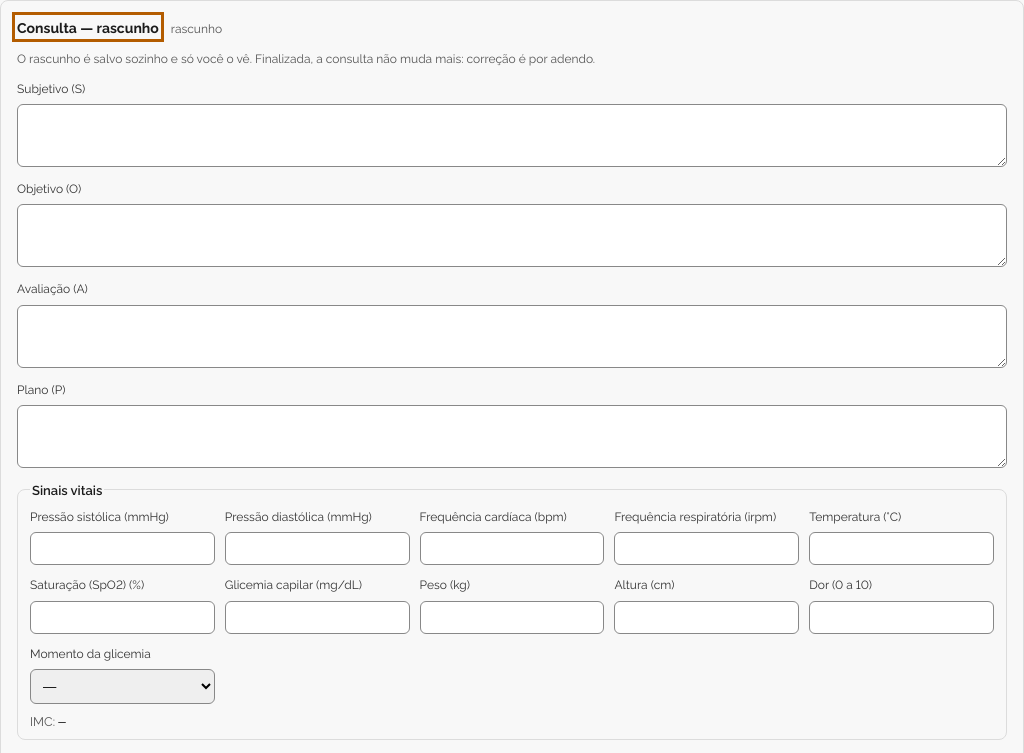
Test: ConsultationEditor › escrever no Subjetivo salva sozinho e mostra a hora
The image size is (1024, 753).
Expected: the message reads "rascunho", [171,19,222,36]
Step 1. Type "Refere sede e cansaço há duas semanas." into the text box labelled "Subjetivo (S)" → (512,136), box [17,104,1007,167]
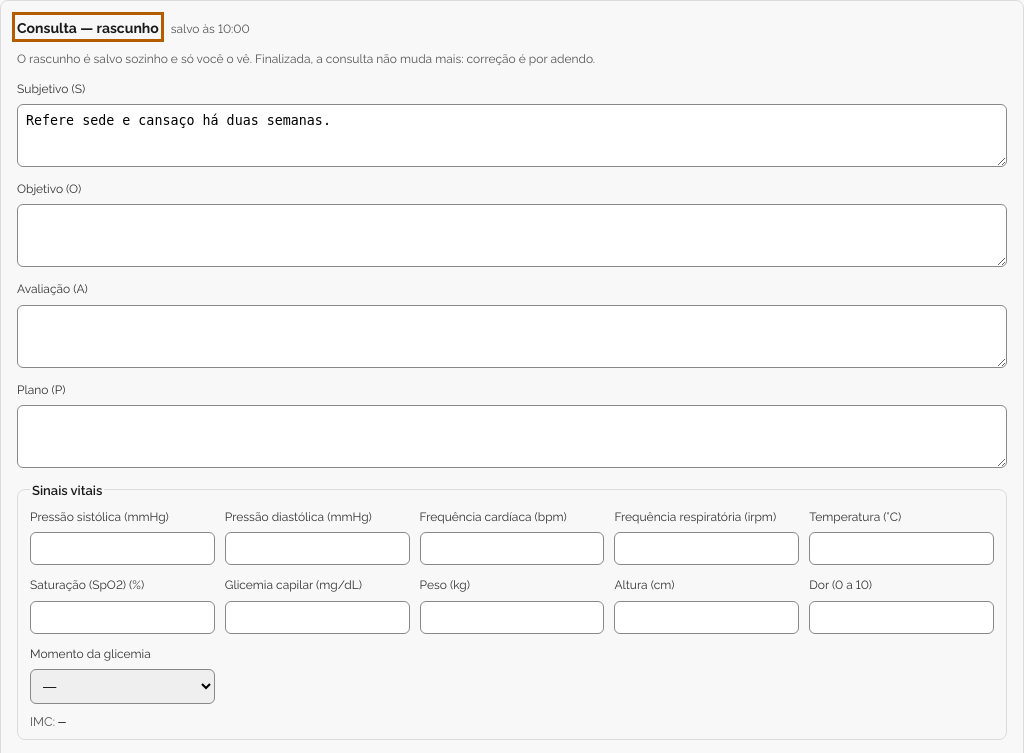
Now the message reads "salvo às 10:00", box [171,19,250,36]
